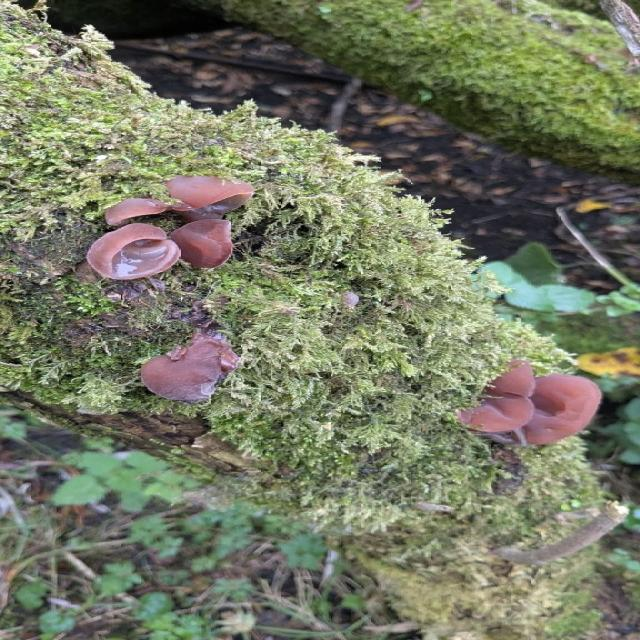Fase Muda: (135, 332, 248, 407), (503, 366, 608, 445), (450, 353, 548, 435), (76, 223, 175, 289), (165, 170, 260, 222), (176, 215, 241, 272), (98, 195, 173, 228)
